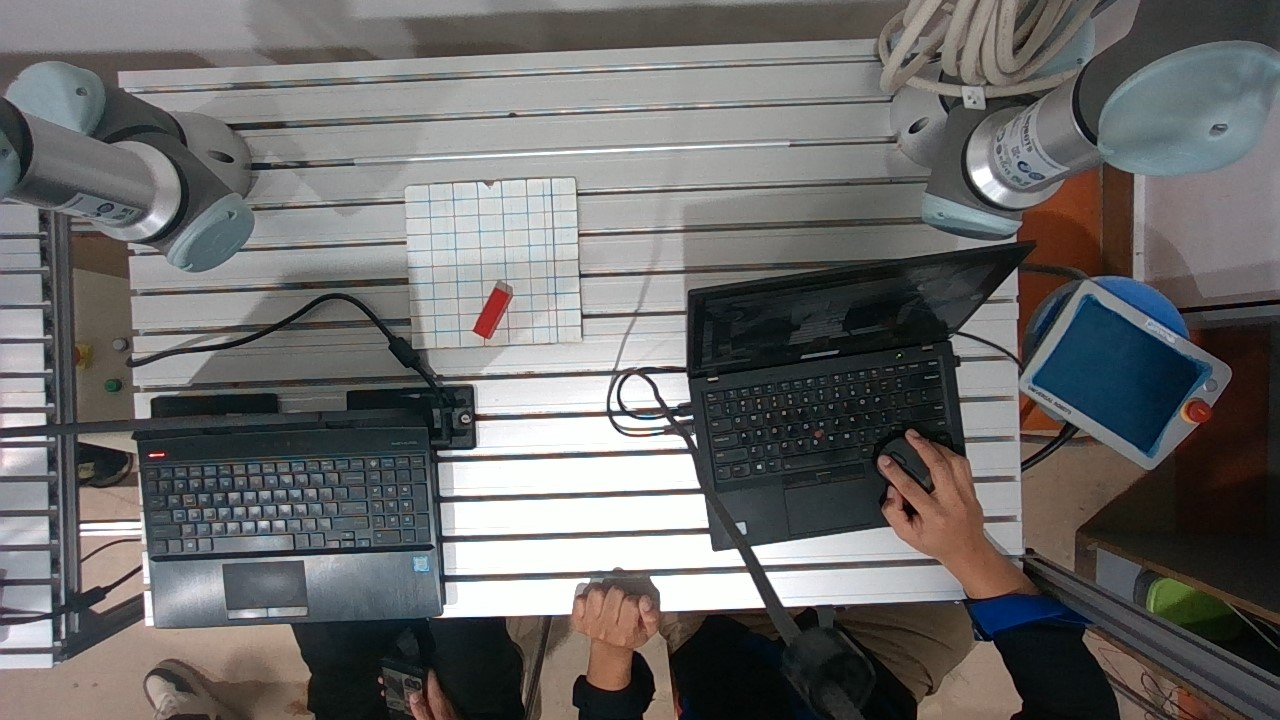box: (463, 273, 523, 344)
